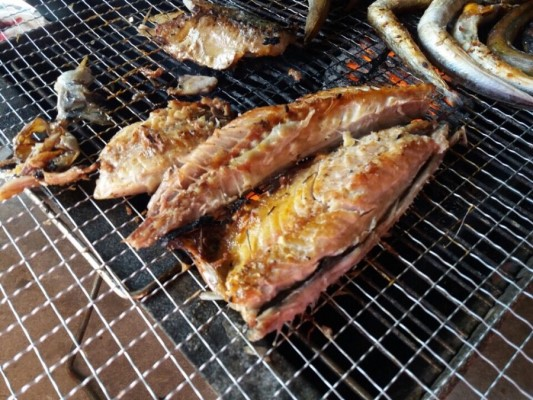godeung-eogu-i: (129, 83, 463, 346)
